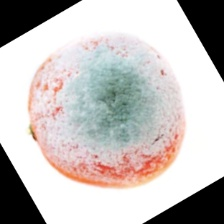orange: (20, 0, 173, 194)
